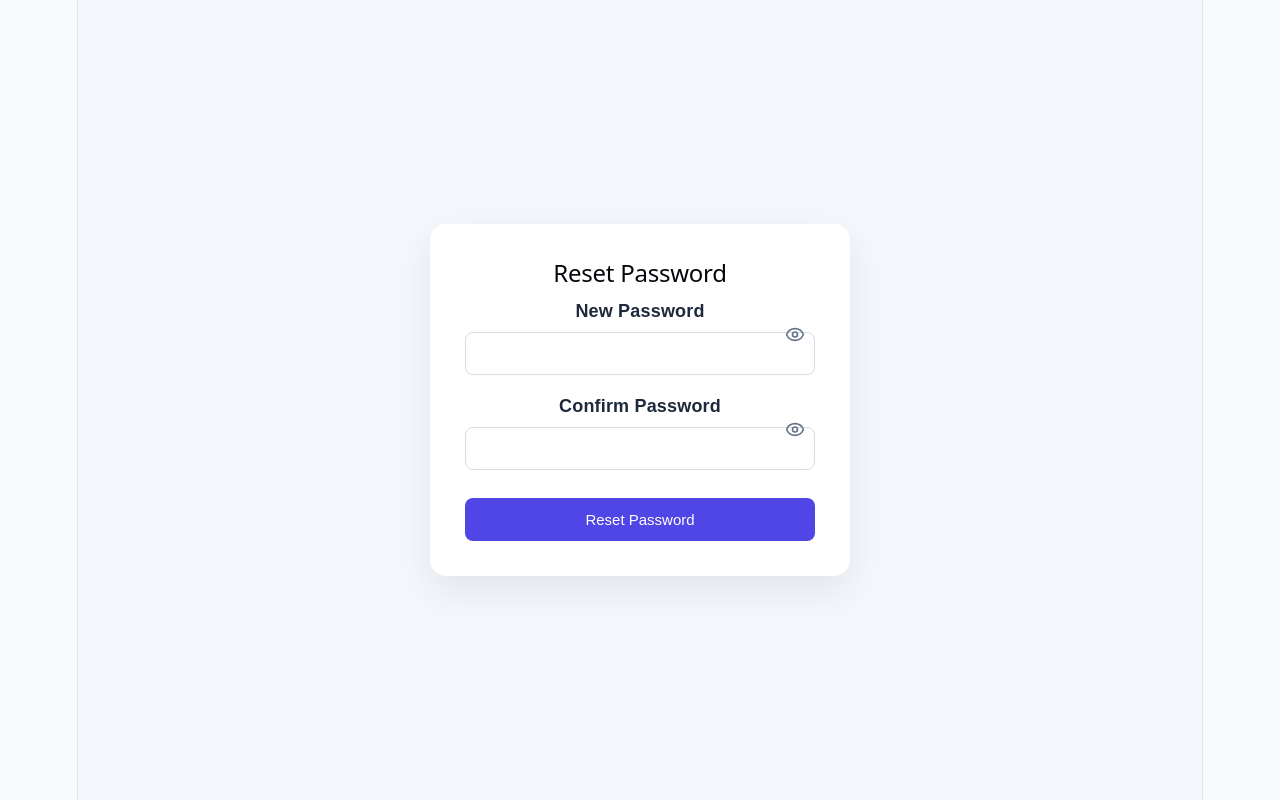
ResetPassword › shows validation errors for weak or mismatched passwords
This screenshot has width=1280, height=800.
Type "short" into the password field labelled "New Password".
click(640, 353); type("short")  # box [465,332,815,375]
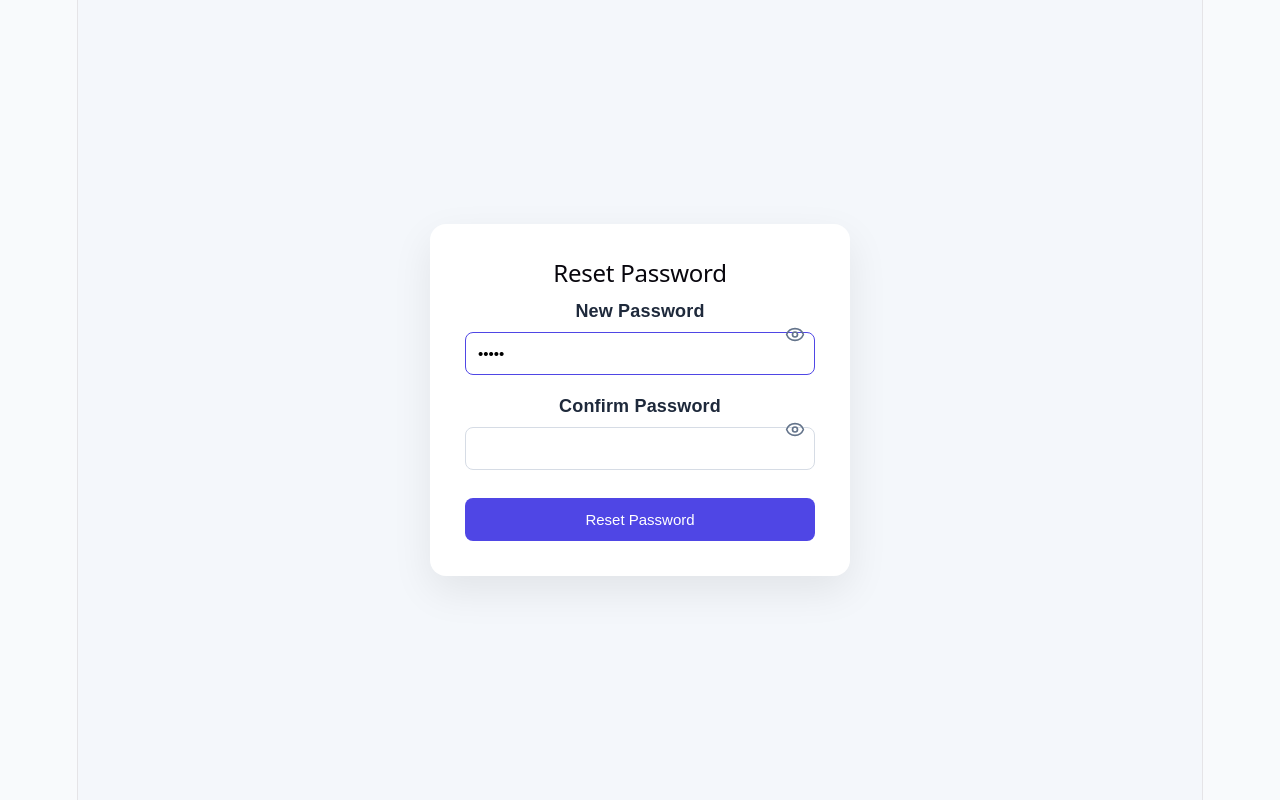
Type "different" into the password field labelled "Confirm Password".
click(640, 448); type("different")  # box [465,427,815,470]
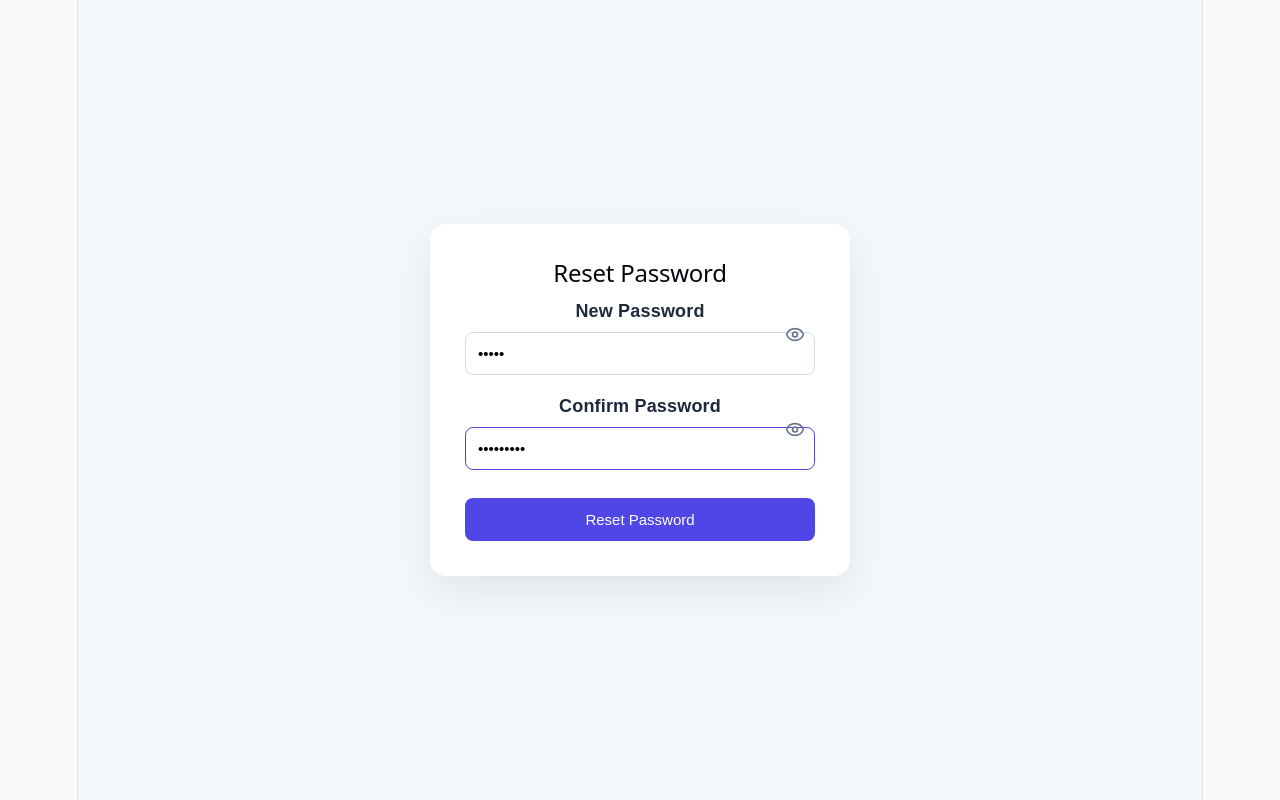
Click the button "Reset Password".
click(640, 519)  # box [465,498,815,541]
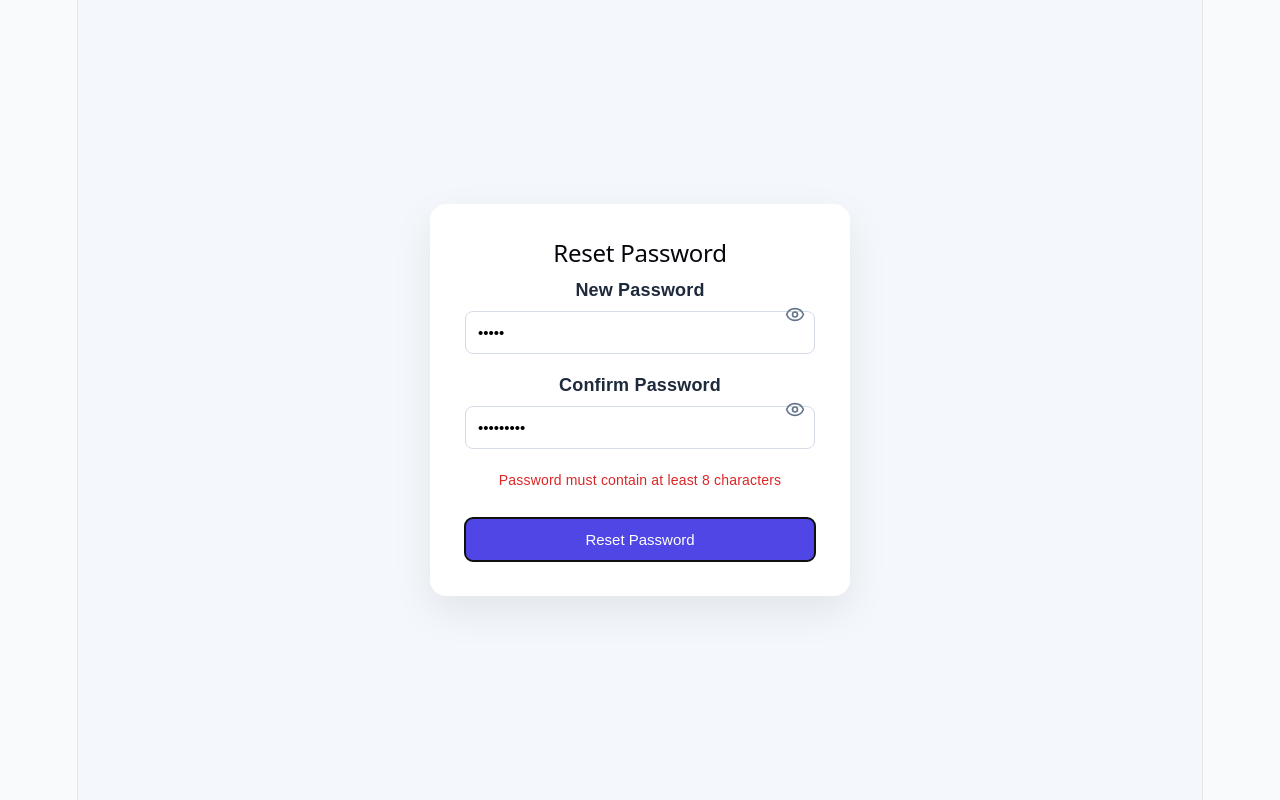
Expected: the text "Password must contain at least 8 characters" is shown, [499,472,781,488]
